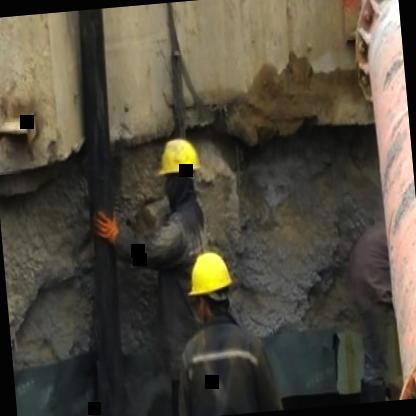helmet: (181, 245, 238, 328), (150, 132, 209, 208)
